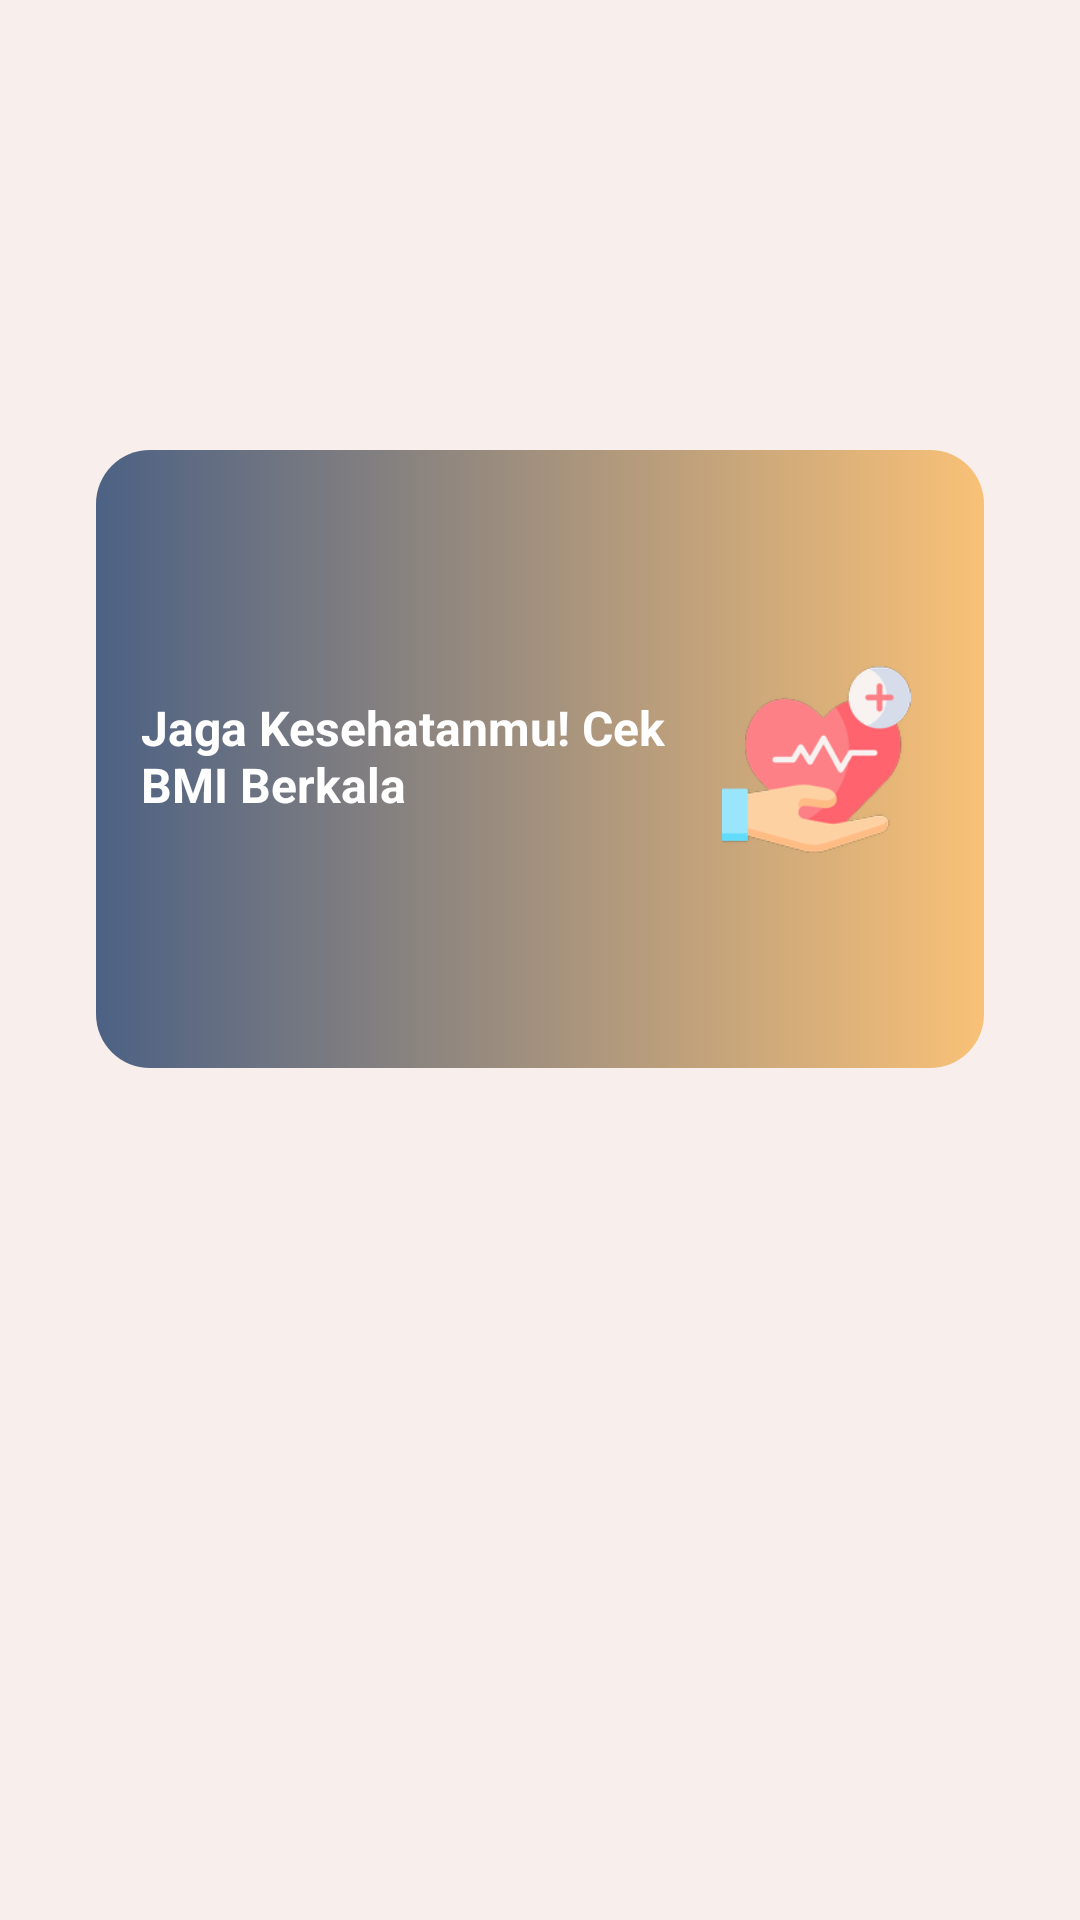

Point at icon controls on the screen. Image size 1080w x 1920h, points as (x=x, y=y).
hearth: (x=816, y=759)
